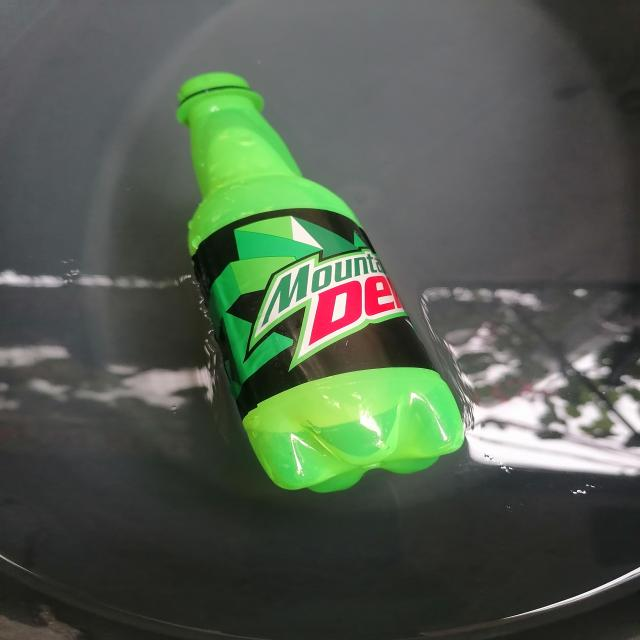Plastic Bottle: (147, 51, 497, 522)
